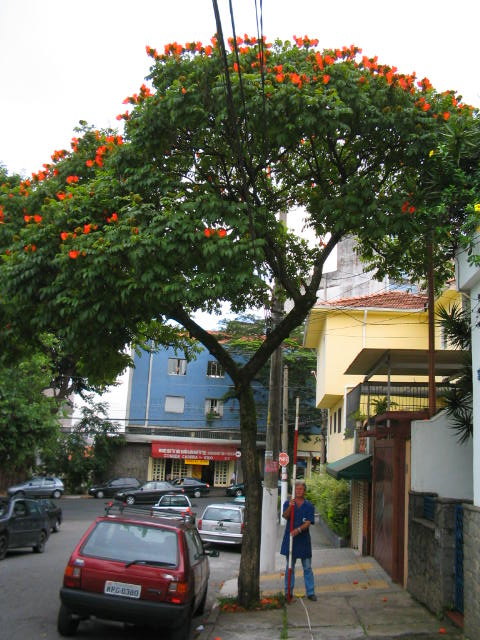crown: (4, 33, 474, 392)
stem: (224, 382, 277, 609)
stick: (281, 397, 301, 604)
tree: (3, 32, 476, 610)
